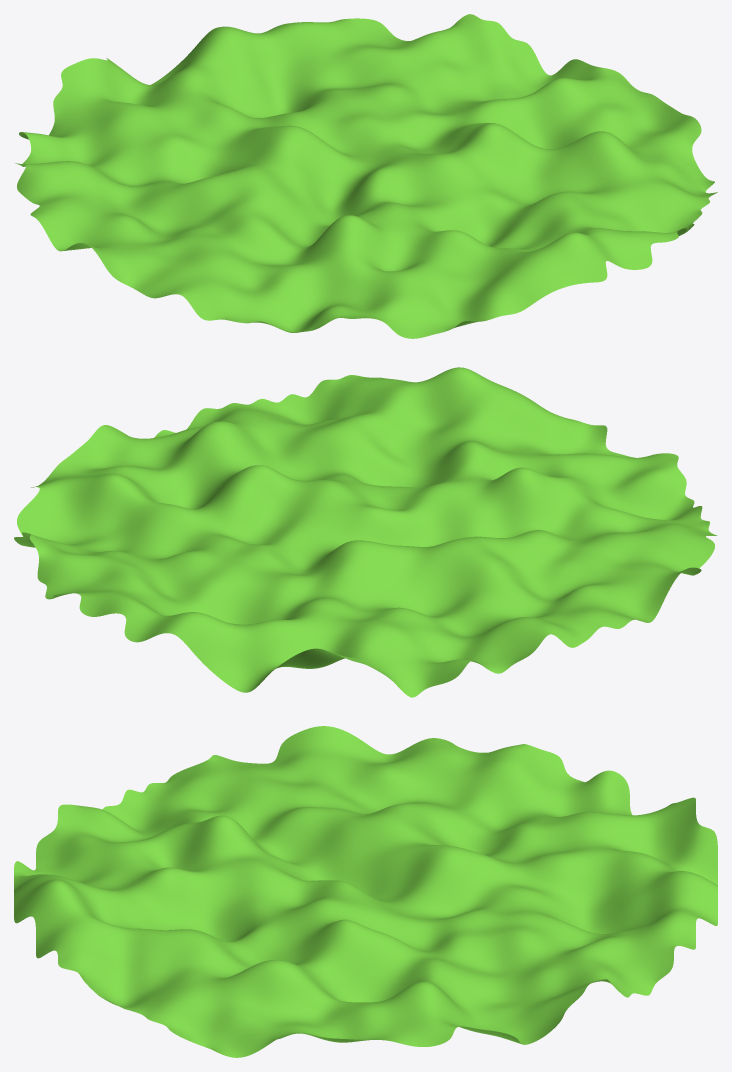
The model's file is sangchu.fbx.
3 views of the same model, one above another, from view 1: azimuth 30°, elevation 25°; view 2: azimuth 150°, elevation 25°; view 3: azimuth 270°, elevation 25° (orthographic). The views are drawn at different scales.
Visible parts, largest first — view 1: Plane.002; view 2: Plane.002; view 3: Plane.002.
Boxes of the visible parts, x1,y1,x2,y2 form: Plane.002: (15,14,717,338); Plane.002: (14,367,717,697); Plane.002: (14,726,717,1057).
Bounding box in the file's own units: 200 × 21.57 × 200.
